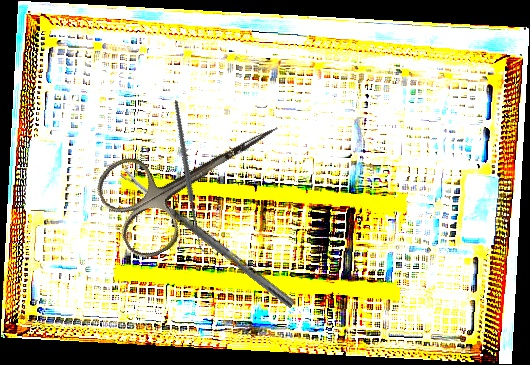Hook Surgical: (127, 99, 256, 254)
Iris Scissors: (88, 85, 304, 266)
Surgical Spoon: (119, 167, 297, 309)
